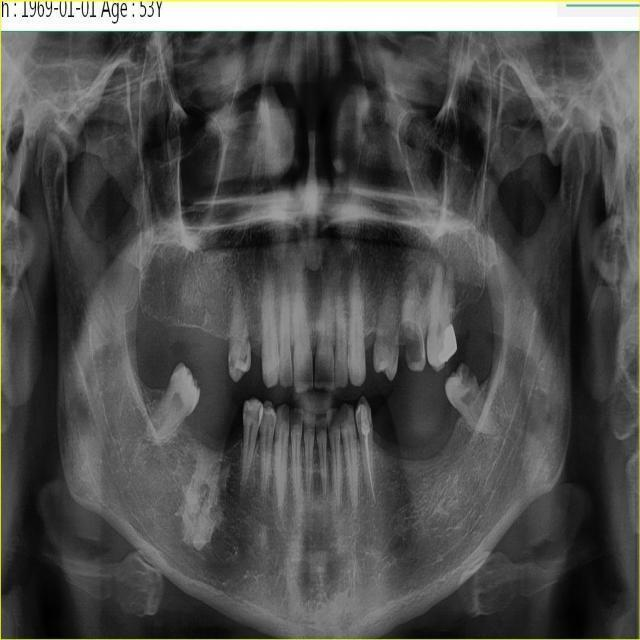Caries: (461, 365, 477, 389), (389, 336, 399, 363), (241, 340, 250, 365), (229, 355, 237, 374), (244, 405, 250, 418)
Filling: (438, 324, 457, 363)
Missing teeth: (372, 386, 465, 463), (145, 320, 232, 375), (177, 394, 222, 442), (359, 331, 378, 381), (248, 345, 264, 385)
Root Canal Treatment: (364, 432, 376, 504)
Root Piece: (405, 262, 435, 372), (400, 263, 422, 349)
